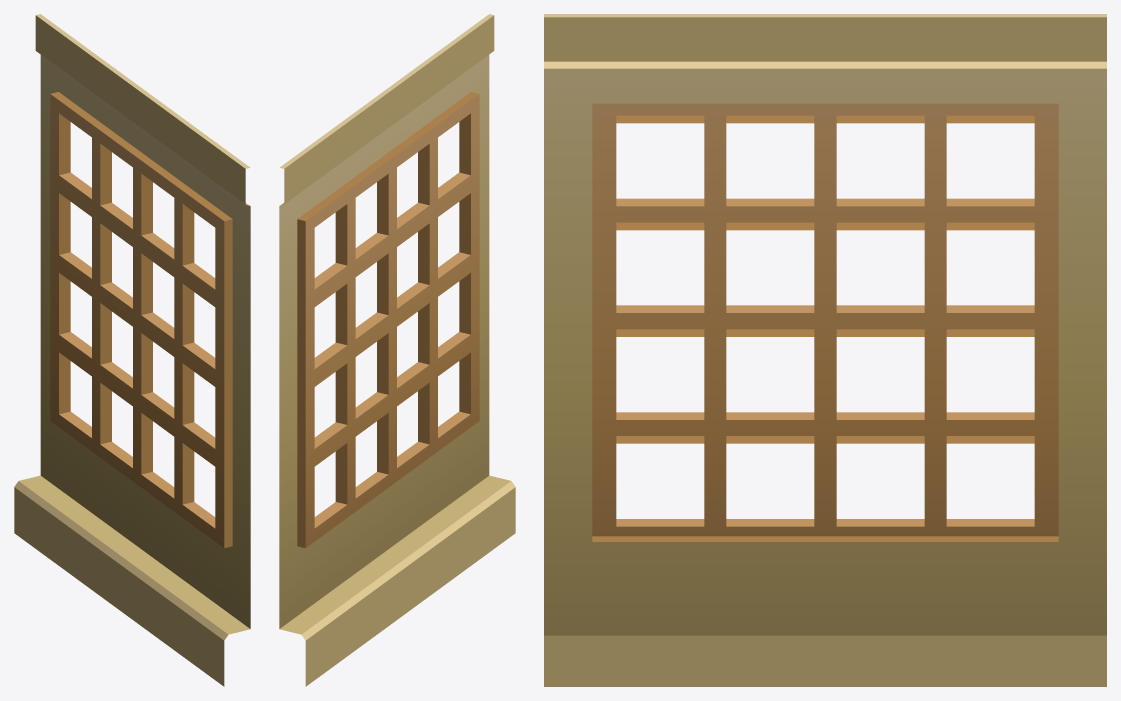
File: Walls_A.fbx
The picture shows the model from 3 angles, left to right: view 1: azimuth 30°, elevation 25°; view 2: azimuth 150°, elevation 25°; view 3: azimuth 270°, elevation 25°; orthographic projection. The views are drawn at different scales.
Parts seen in each view (by area): view 1: OB_Wall_Window; view 2: OB_Wall_Window; view 3: OB_Wall_Window.
Boxes of the visible parts, x1,y1,x2,y2 form: OB_Wall_Window: (14,14,250,686); OB_Wall_Window: (279,14,515,686); OB_Wall_Window: (544,14,1106,686).
Bounding box in the file's own units: 36.2 × 599 × 445.
